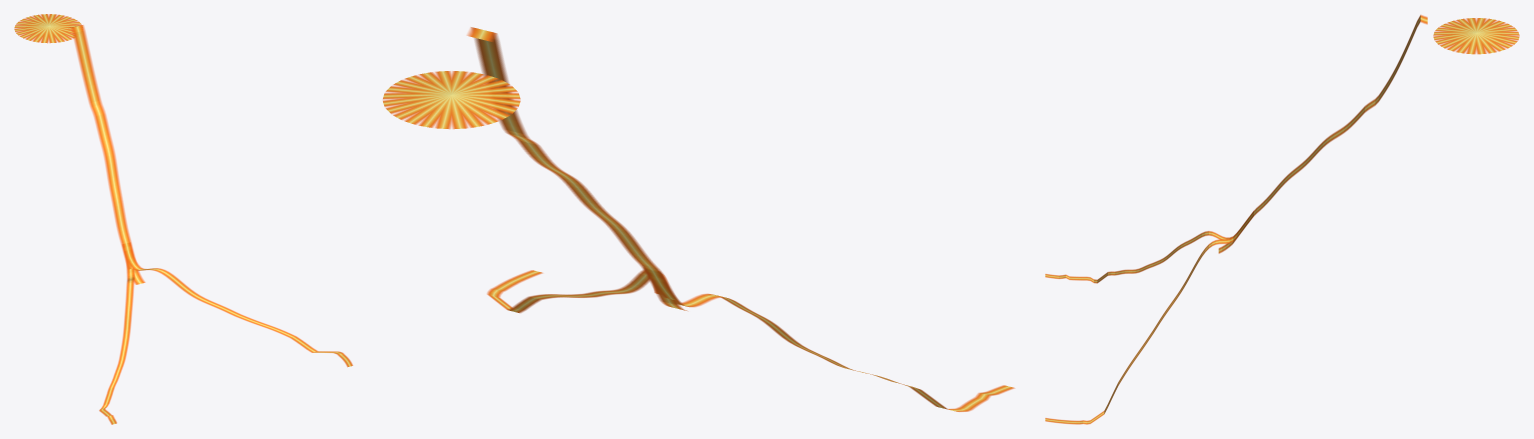
The model's file is volcano_lava.glb.
The picture shows the model from 3 angles, left to right: view 1: azimuth 30°, elevation 25°; view 2: azimuth 150°, elevation 25°; view 3: azimuth 270°, elevation 25°; orthographic projection. The views are drawn at different scales.
Parts seen in each view (by area): view 1: LavaMain, CraterLava, LavaL, LavaR; view 2: CraterLava, LavaMain, LavaR, LavaL; view 3: CraterLava, LavaMain, LavaL, LavaR.
Boxes of the visible parts, <box> form: LavaMain: <box>69,25,145,284</box>; CraterLava: <box>14,14,82,43</box>; LavaL: <box>122,242,352,366</box>; LavaR: <box>99,243,134,424</box>; CraterLava: <box>383,71,520,129</box>; LavaMain: <box>467,27,686,310</box>; LavaR: <box>646,272,1014,411</box>; LavaL: <box>487,269,668,313</box>; CraterLava: <box>1433,18,1519,54</box>; LavaMain: <box>1218,15,1427,253</box>; LavaL: <box>1045,211,1253,424</box>; LavaR: <box>1045,217,1252,283</box>.
Bounding box in the file's own units: 96.8 × 97.09 × 128.
1 material, 1 textured.
